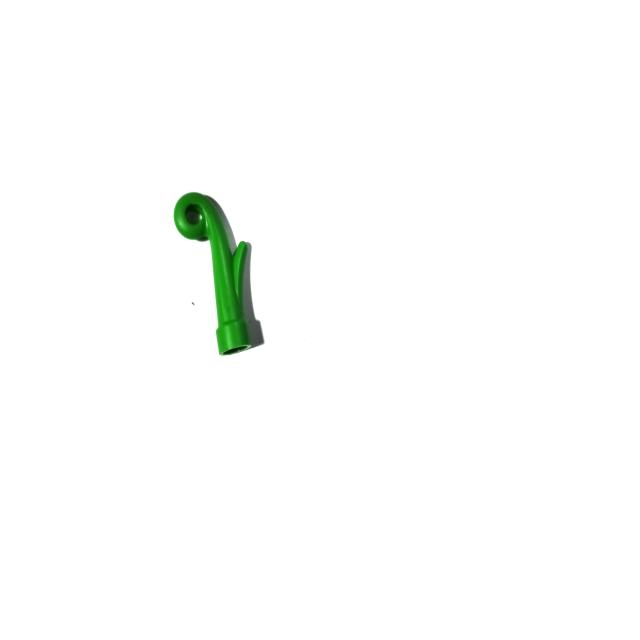Green_Small: (172, 190, 254, 357)
